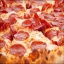pepperoni: (32, 13, 50, 33), (7, 43, 28, 59), (48, 11, 64, 29), (13, 28, 31, 42), (1, 13, 19, 27), (30, 38, 47, 52)
pizza: (1, 1, 64, 64)
